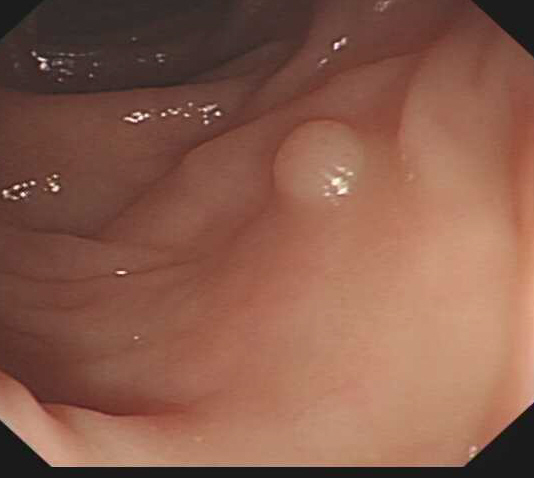adenoma: (270, 116, 364, 202)
